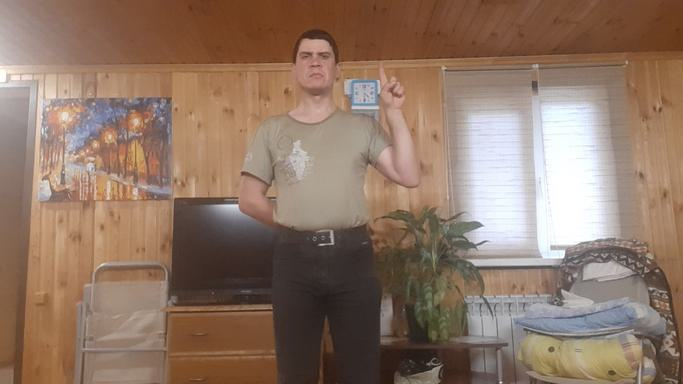one: (374, 59, 409, 113)
